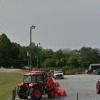Tractor: (9, 63, 69, 100)
